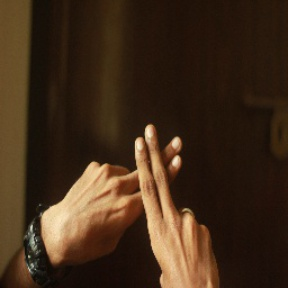F: (106, 120, 206, 241)
